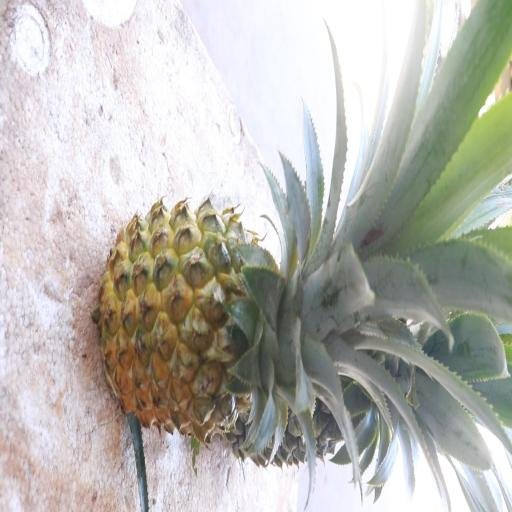Pineapple - v8 v1: (91, 194, 372, 452)
